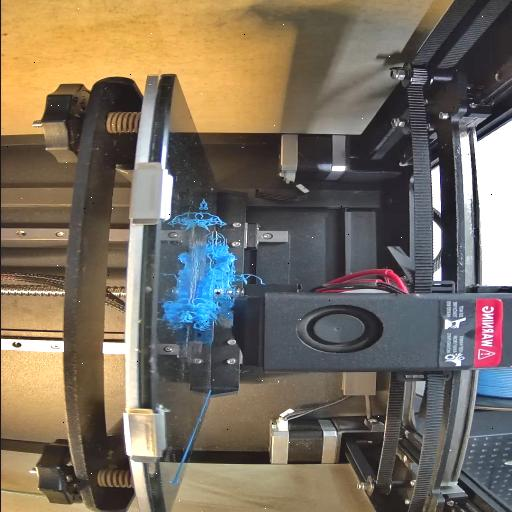spaghetti: (208, 238, 236, 316), (183, 296, 226, 330), (190, 209, 228, 232)
